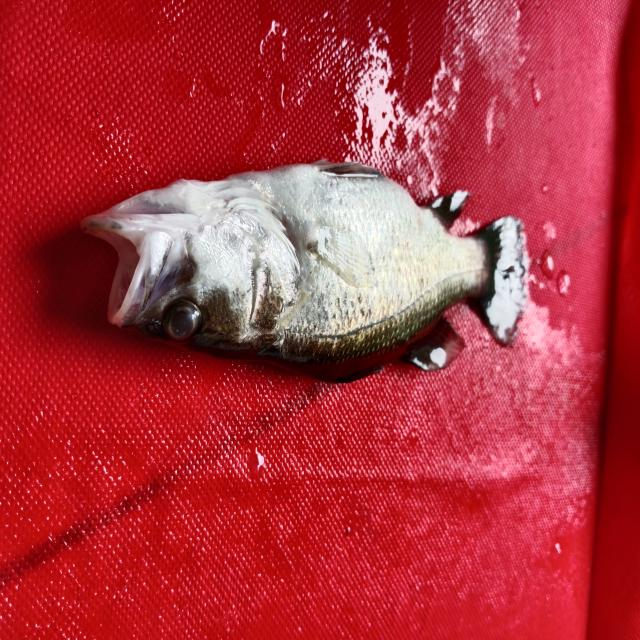ikan: (66, 138, 542, 386)
